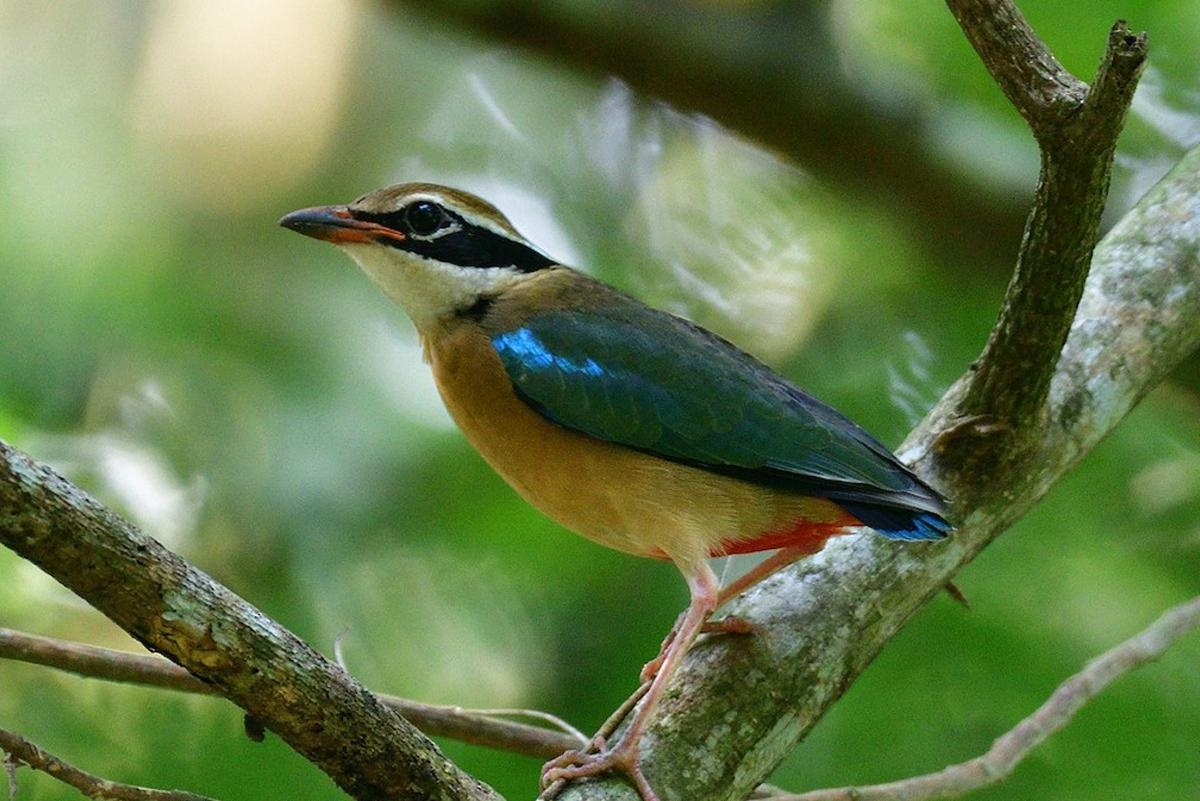pitta: (285, 160, 953, 626)
